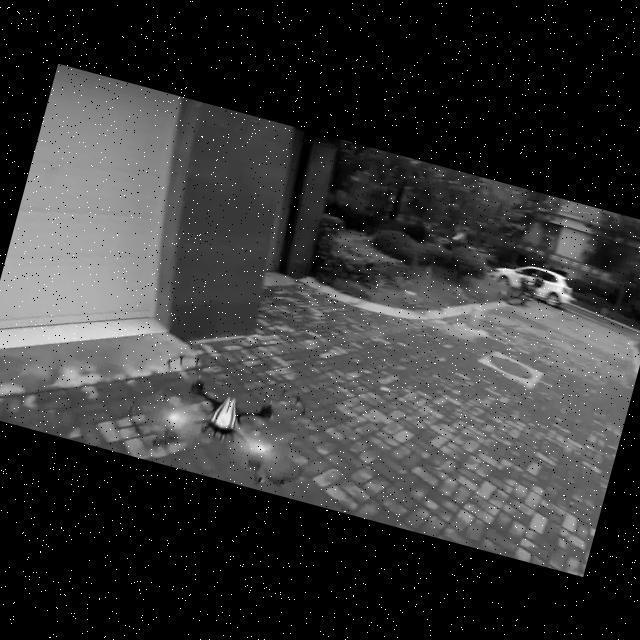Drons: (114, 333, 334, 504)
